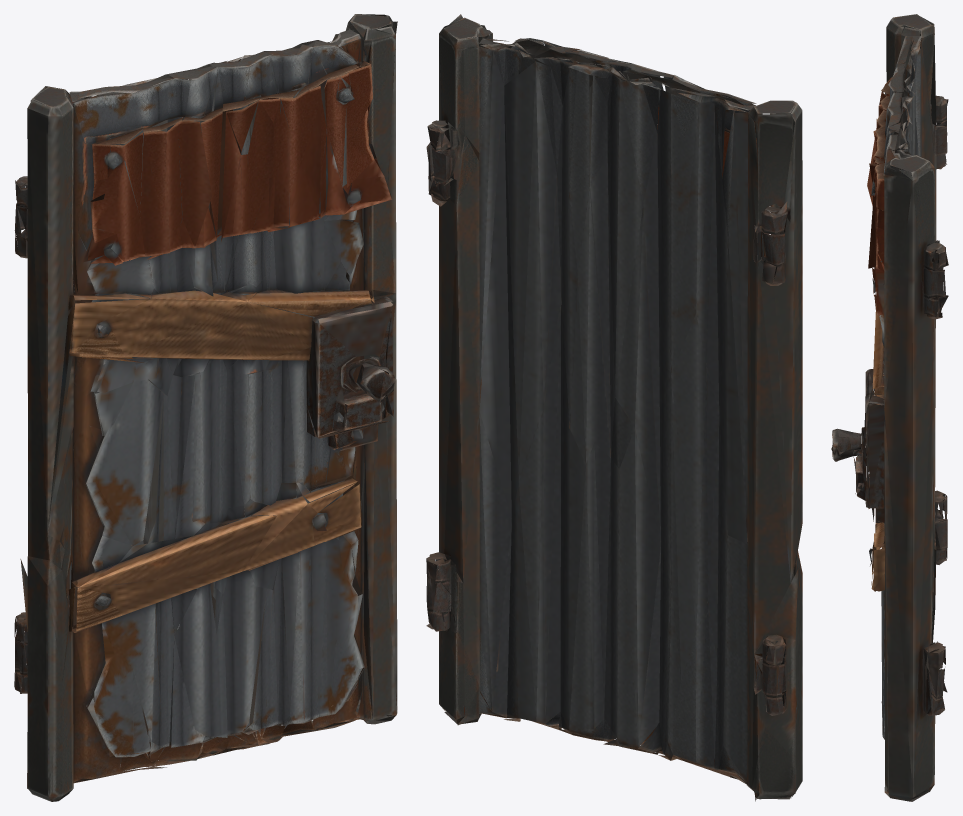
The model's file is door_scrap_lod1.glb.
3 renders of one model, left to right at view 1: azimuth 30°, elevation 25°; view 2: azimuth 150°, elevation 25°; view 3: azimuth 270°, elevation 25°, orthographic. The views are drawn at different scales.
Parts seen in each view (by area): view 1: LOD1; view 2: LOD1; view 3: LOD1.
Boxes of the visible parts, x1=… form: LOD1: x1=14, y1=14, x2=397, y2=801; LOD1: x1=426, y1=14, x2=802, y2=801; LOD1: x1=831, y1=14, x2=948, y2=801.
Bounding box in the file's own units: 0.0416 × 0.0756 × 0.0127.
Materials: 1 (1 with a texture image).
